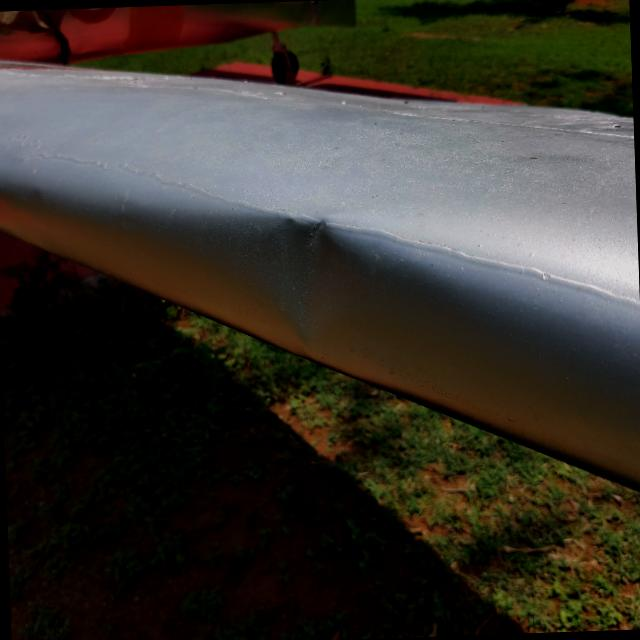dent: (245, 196, 368, 358)
